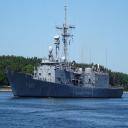Fragata: (5, 6, 125, 101)
